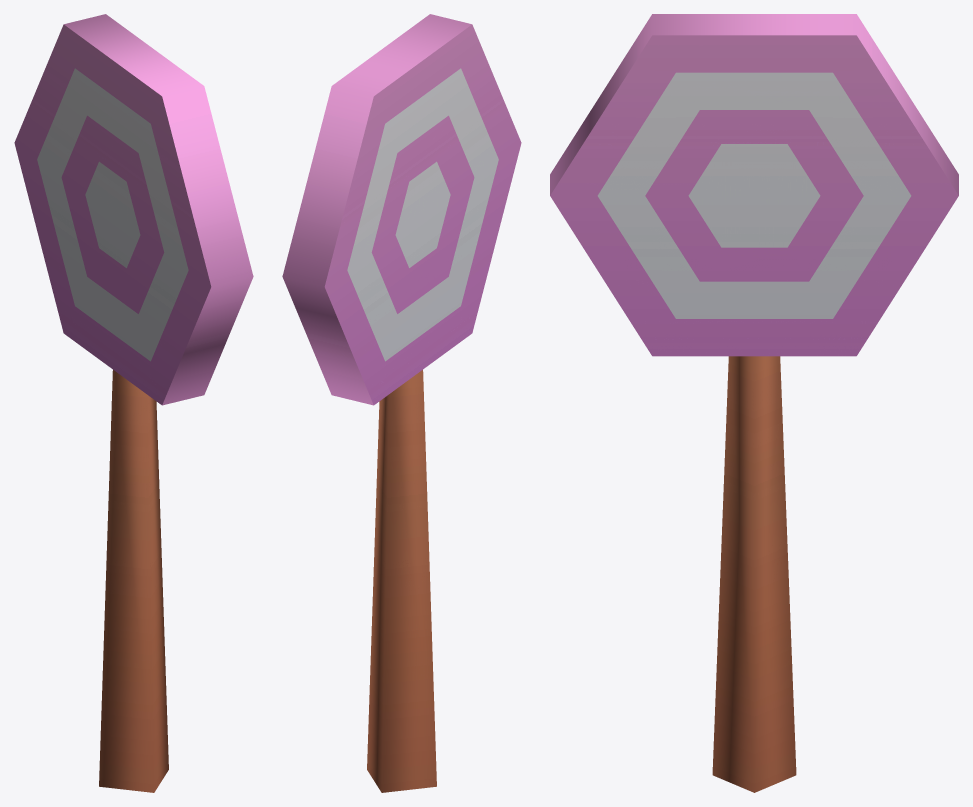
The model's file is lollipop.glb.
3 views of the same model, side by side, from view 1: azimuth 30°, elevation 25°; view 2: azimuth 150°, elevation 25°; view 3: azimuth 270°, elevation 25° (orthographic). The views are drawn at different scales.
Parts seen in each view (by area): view 1: lollypop; view 2: lollypop; view 3: lollypop.
Boxes of the visible parts, <box> form: lollypop: <box>14,14,253,792</box>; lollypop: <box>282,14,521,792</box>; lollypop: <box>550,14,958,792</box>.
Bounding box in the file's own units: 0.0152 × 0.15 × 0.0741.
1 material, 1 textured.
